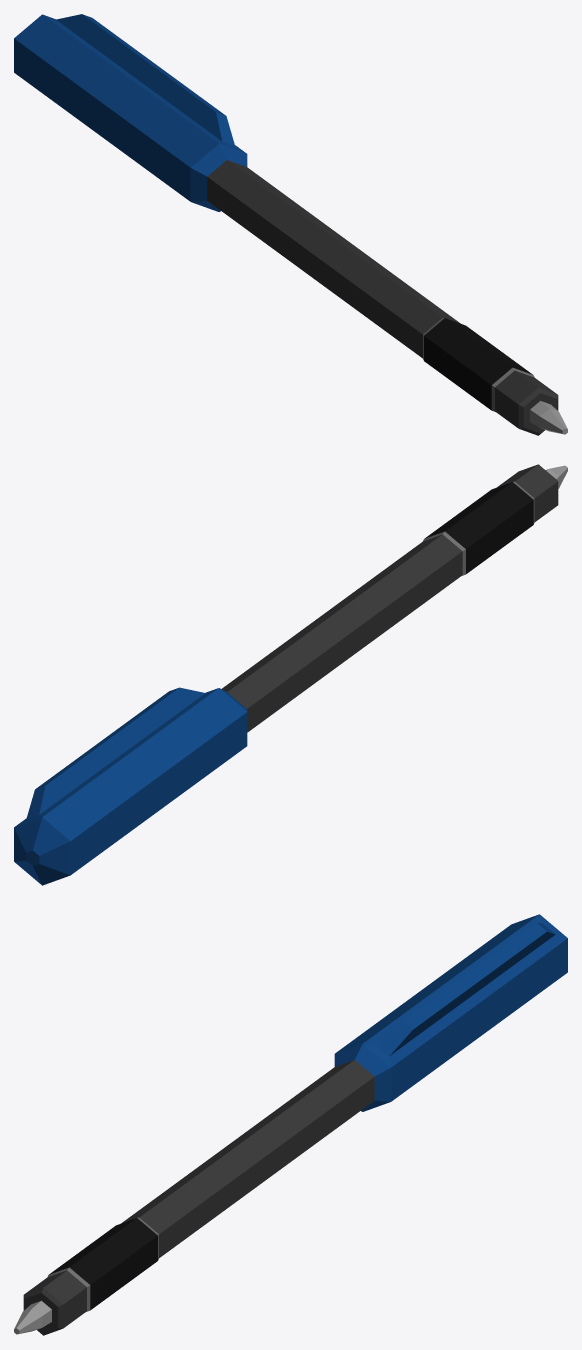
File: PenV2Blue.fbx
3 views of the same model, one above another, from view 1: azimuth 30°, elevation 25°; view 2: azimuth 150°, elevation 25°; view 3: azimuth 330°, elevation 25° (orthographic).
Parts seen in each view (by area): view 1: PenV2Blue; view 2: PenV2Blue; view 3: PenV2Blue.
Part boxes in pixels (x1,y1,x2,y2): PenV2Blue: (14, 14, 567, 435); PenV2Blue: (14, 464, 567, 885); PenV2Blue: (14, 914, 567, 1335).
Size of the model in its own units: 0.6611 by 0.8859 by 10.7.
